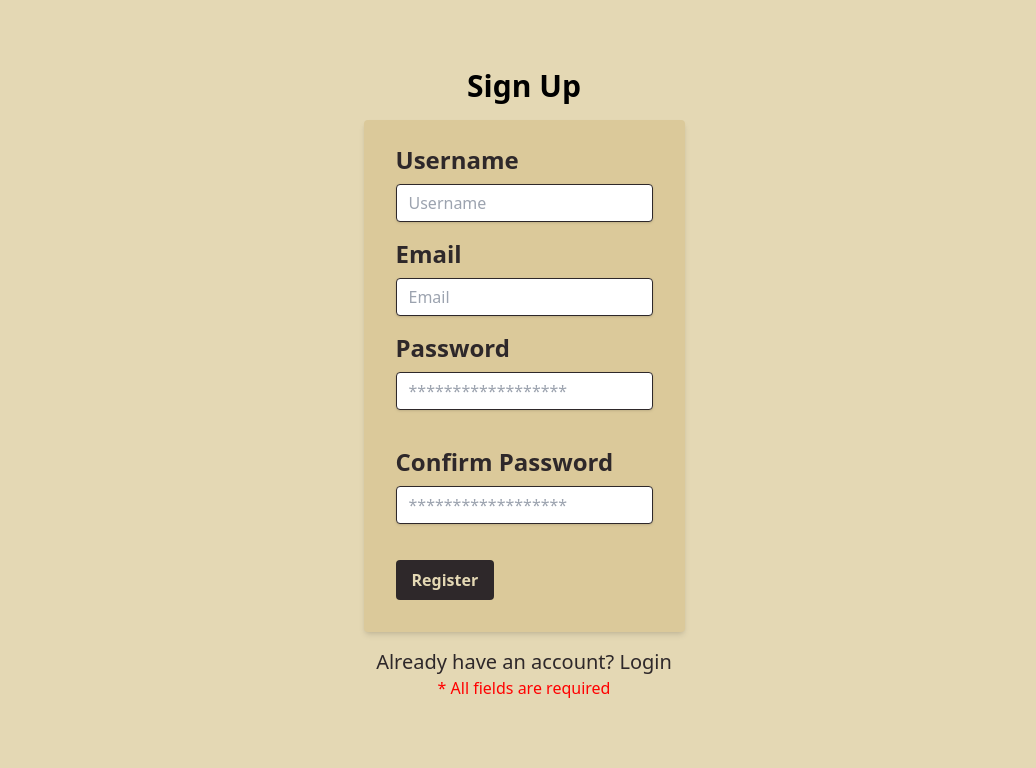
it: test for login page component › should show the login link
What coordinates should you click on to do the following:
click the link "Already have an account? Login"
I would click on:
 (524, 662)
Its box is [376, 648, 672, 676].
(page scrolled)
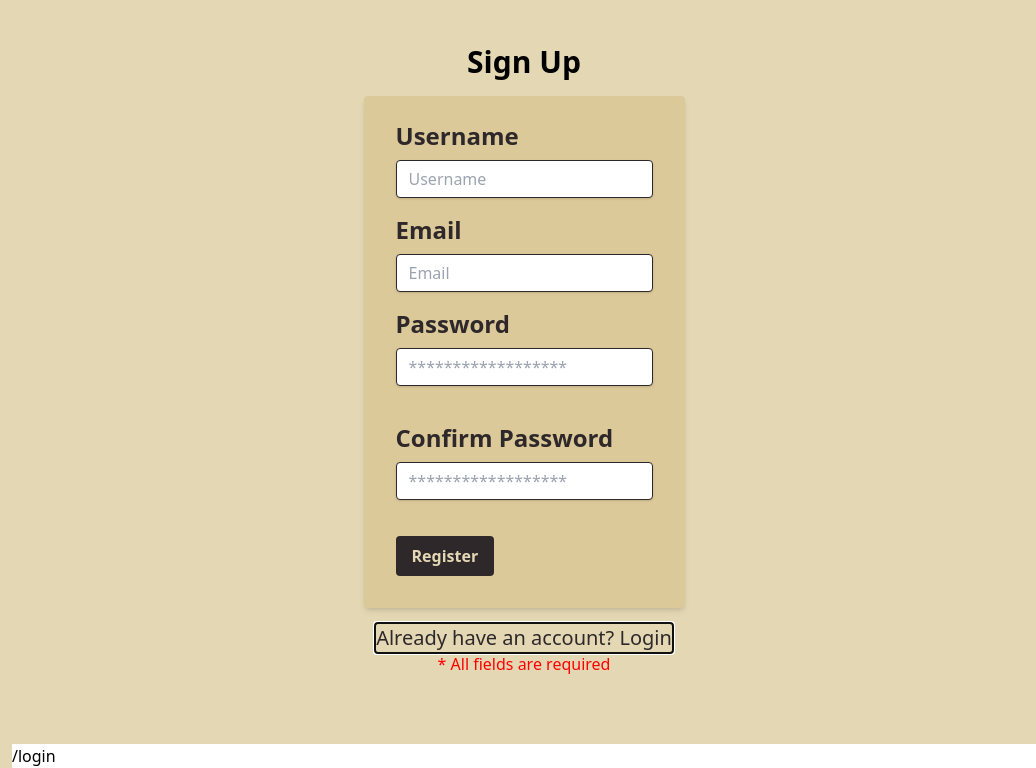
Expected: the text with test id "pathname" shows "login", [12, 745, 56, 767]
